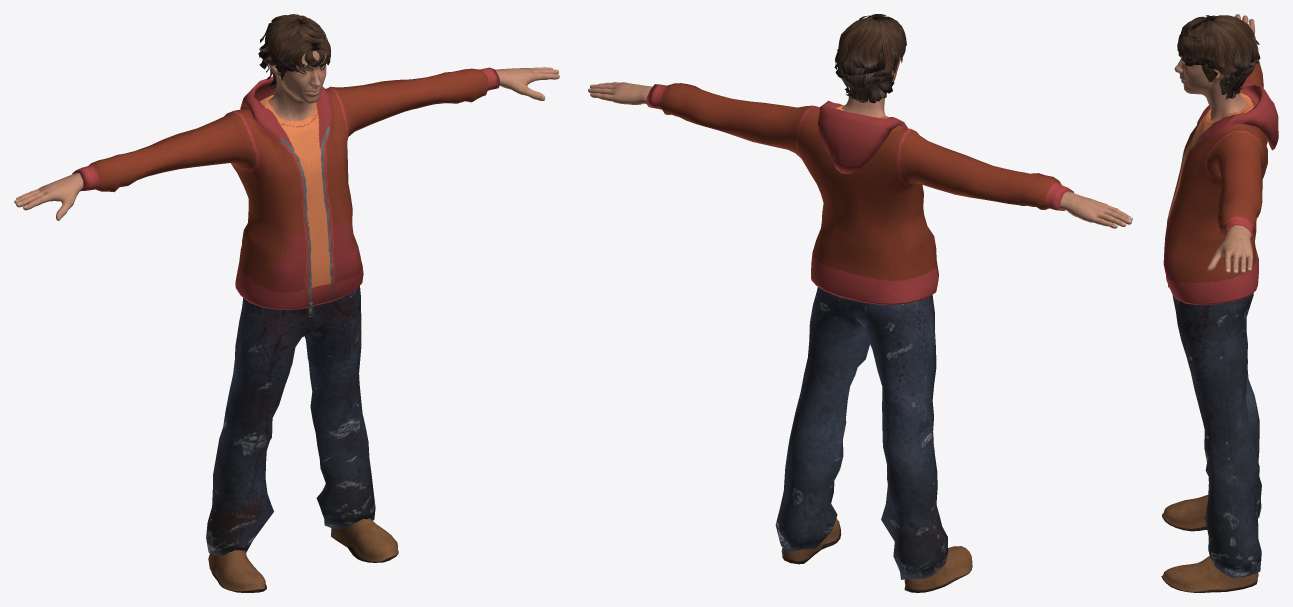
The model's file is small_eyes.obj.
The picture shows the model from 3 angles, left to right: view 1: azimuth 30°, elevation 25°; view 2: azimuth 150°, elevation 25°; view 3: azimuth 270°, elevation 25°; orthographic projection.
Visible parts, largest first — view 1: Tops, Bottoms, BodyParts, Shoes, Hair; view 2: Tops, Bottoms, Hair, BodyParts, Shoes; view 3: Tops, Bottoms, Hair, BodyParts, Shoes.
Part boxes in pixels (x1,y1,x2,y2): Tops: (72, 67, 499, 316); Bottoms: (206, 286, 375, 555); BodyParts: (14, 50, 559, 220); Shoes: (208, 489, 398, 592); Hair: (258, 14, 330, 89); Tops: (646, 83, 1073, 305); Bottoms: (775, 287, 947, 579); Hair: (834, 14, 906, 103); BodyParts: (588, 60, 1132, 228); Shoes: (781, 508, 972, 592); Tops: (1163, 58, 1278, 305); Bottoms: (1172, 293, 1261, 578); Hair: (1177, 15, 1260, 99); BodyParts: (1174, 14, 1254, 274); Shoes: (1161, 495, 1258, 592).
Size of the model in its own units: 187 by 180 by 35.54.
